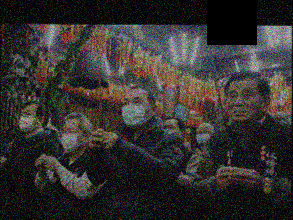with_mask: (121, 94, 153, 128), (59, 125, 85, 152), (17, 109, 40, 134), (195, 127, 212, 145)
without_mask: (225, 87, 267, 123)
